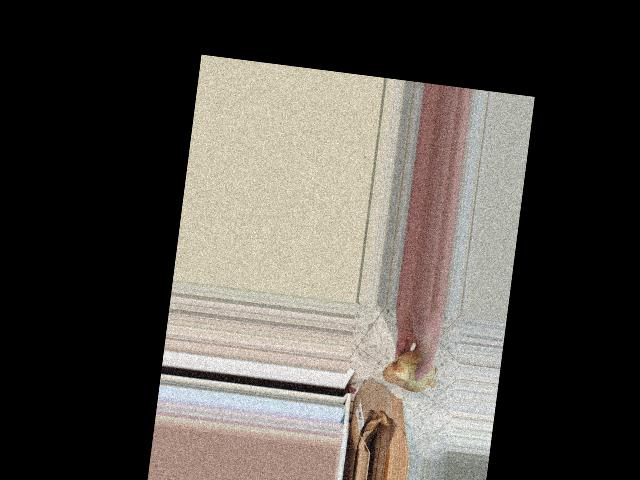onion: (382, 343, 441, 399)
